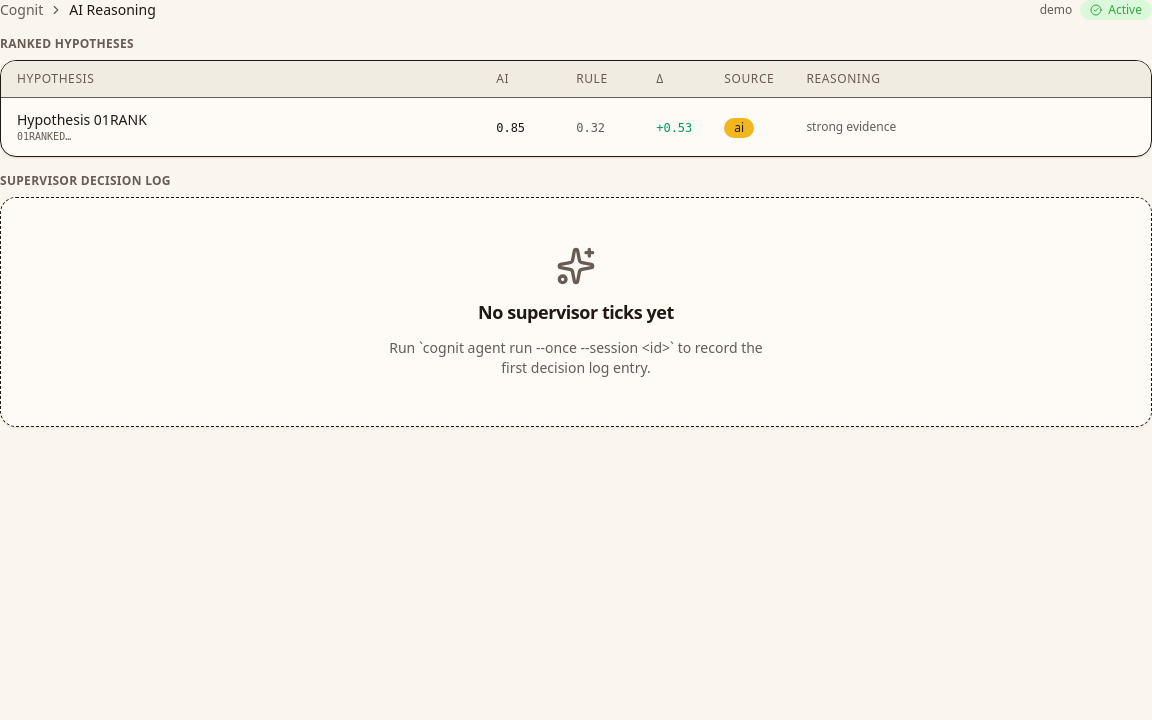
AiReasoningPage (C4) › 5. clicking a row opens the rank history sheet
Expected: the element with test id "ai-reasoning-page" is shown, [0,0,1151,427]
Expected: the number of elements with test id "ai-reasoning-source" is 1, [724,118,754,138]
Step 1. Click the row with test id "ai-reasoning-source" → (576, 127), box [1,98,1151,156]
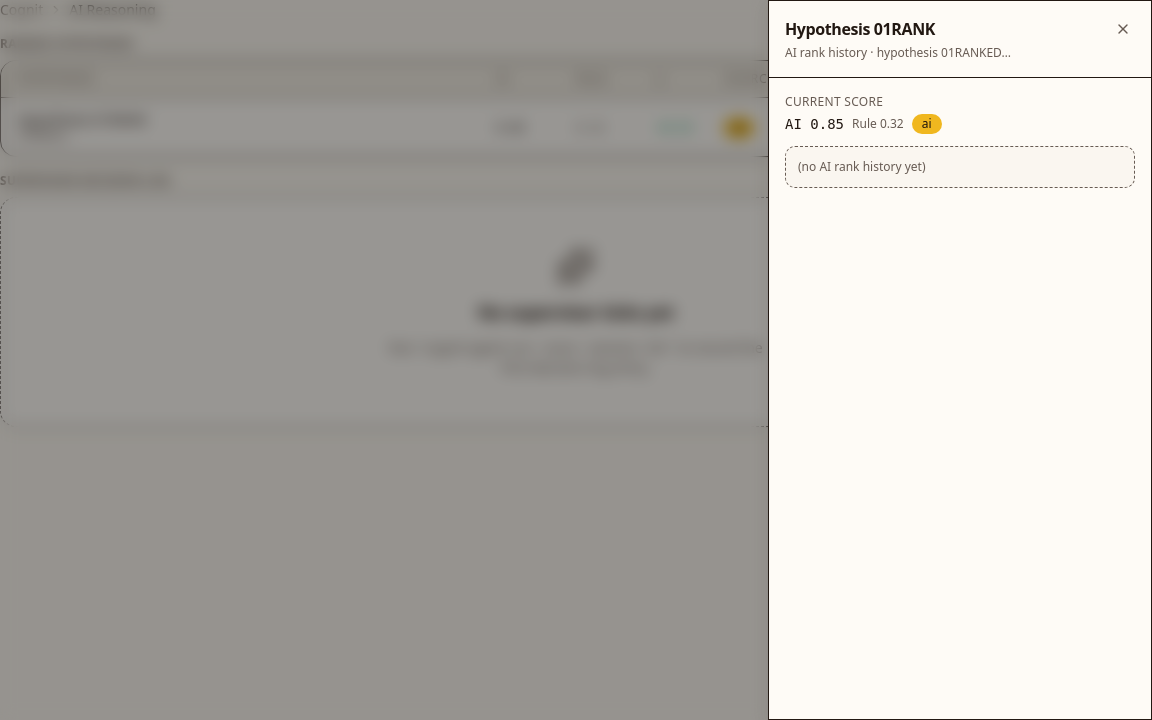
Expected: the dialog with test id "ai-reasoning-history-sheet" is shown
